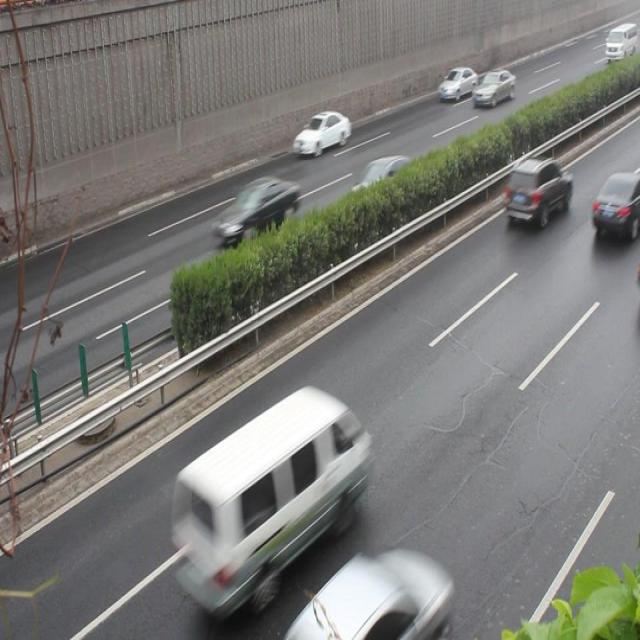car: (304, 548, 449, 640), (212, 176, 299, 244), (501, 155, 570, 228), (344, 157, 422, 216), (591, 172, 640, 242), (292, 112, 350, 159), (472, 69, 513, 110)
truck: (170, 387, 367, 601)
